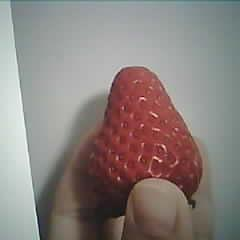straw-ripe: (91, 66, 203, 200)
